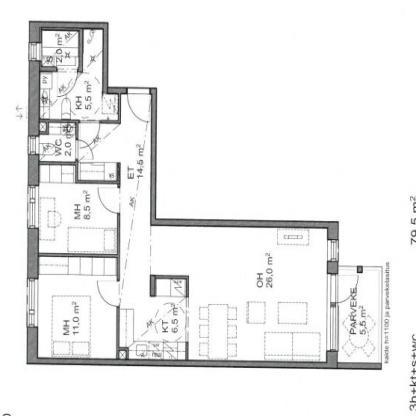door: (327, 265, 367, 307), (125, 84, 151, 126), (48, 64, 80, 98), (93, 275, 125, 308), (95, 181, 125, 215), (74, 118, 104, 151)
window: (22, 271, 42, 333), (321, 301, 343, 357), (22, 178, 44, 230), (319, 237, 345, 265), (25, 132, 47, 158), (25, 39, 45, 67)
